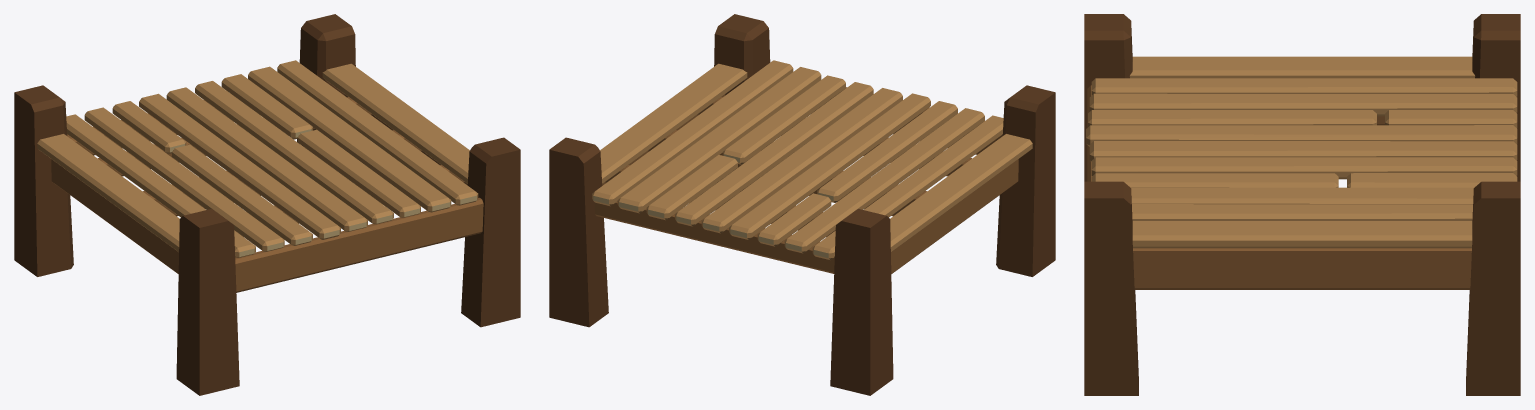
Rendered from pier-deck-corner-c56248.glb.
3 renders of one model, left to right at view 1: azimuth 30°, elevation 25°; view 2: azimuth 150°, elevation 25°; view 3: azimuth 270°, elevation 25°, orthographic. The views are drawn at different scales.
Parts seen in each view (by area): view 1: pier-deck-corner; view 2: pier-deck-corner; view 3: pier-deck-corner.
Part boxes in pixels (x1,y1,x2,y2): pier-deck-corner: (14,14,520,395); pier-deck-corner: (549,14,1055,395); pier-deck-corner: (1084,14,1520,395).
Size of the model in its own units: 3 by 1.5 by 3.
